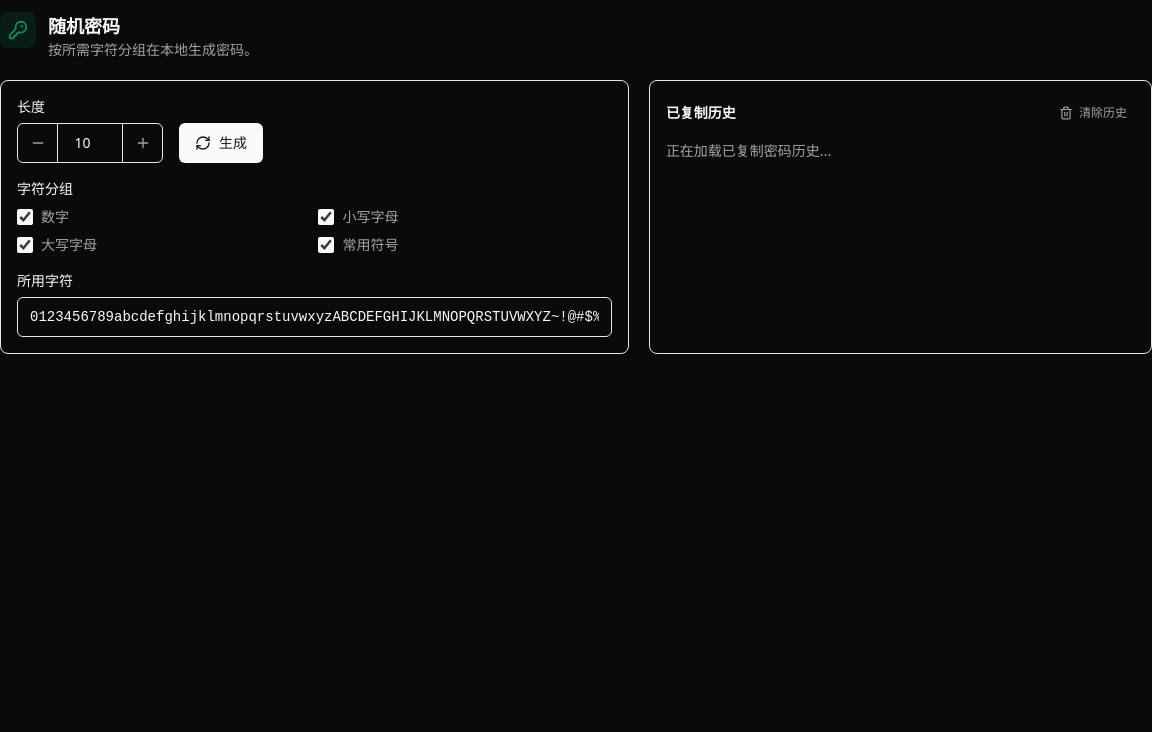
it: RandomPasswordTool › preserves loaded history when copying before a delayed initial load completes
Click the button "生成" at (221, 143), box [179, 123, 263, 163]
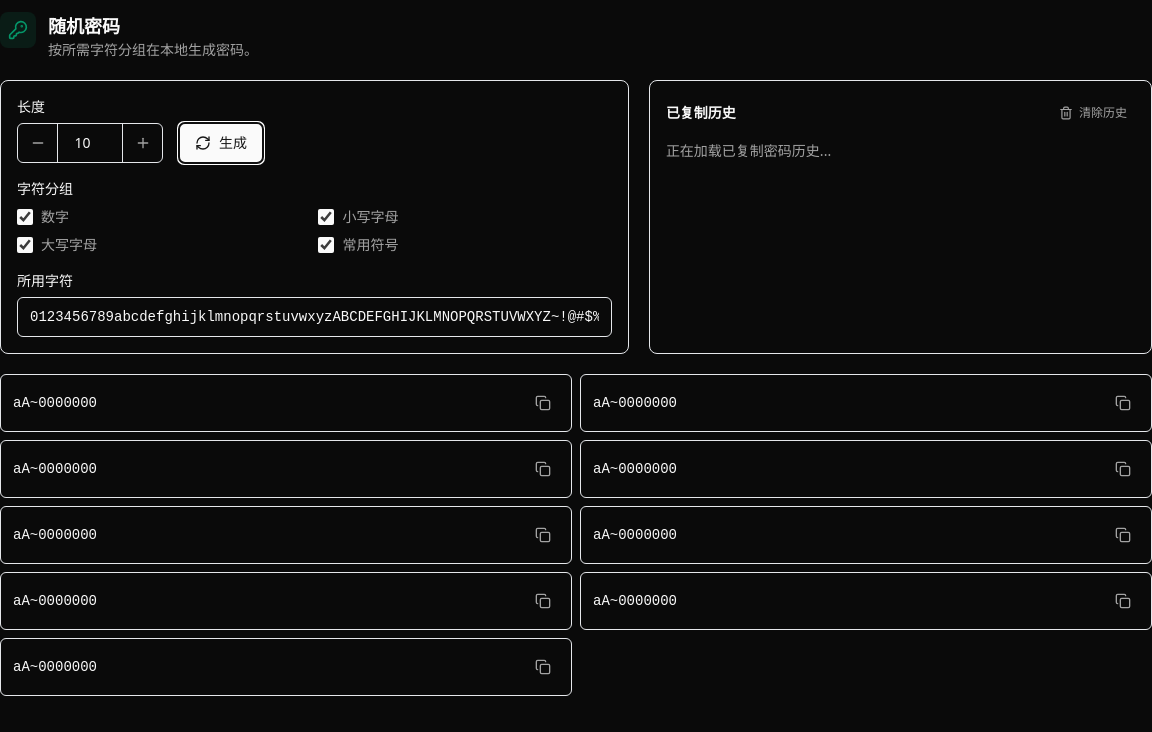
Click the 1st button named "复制密码" at (543, 403), box [527, 387, 559, 419]
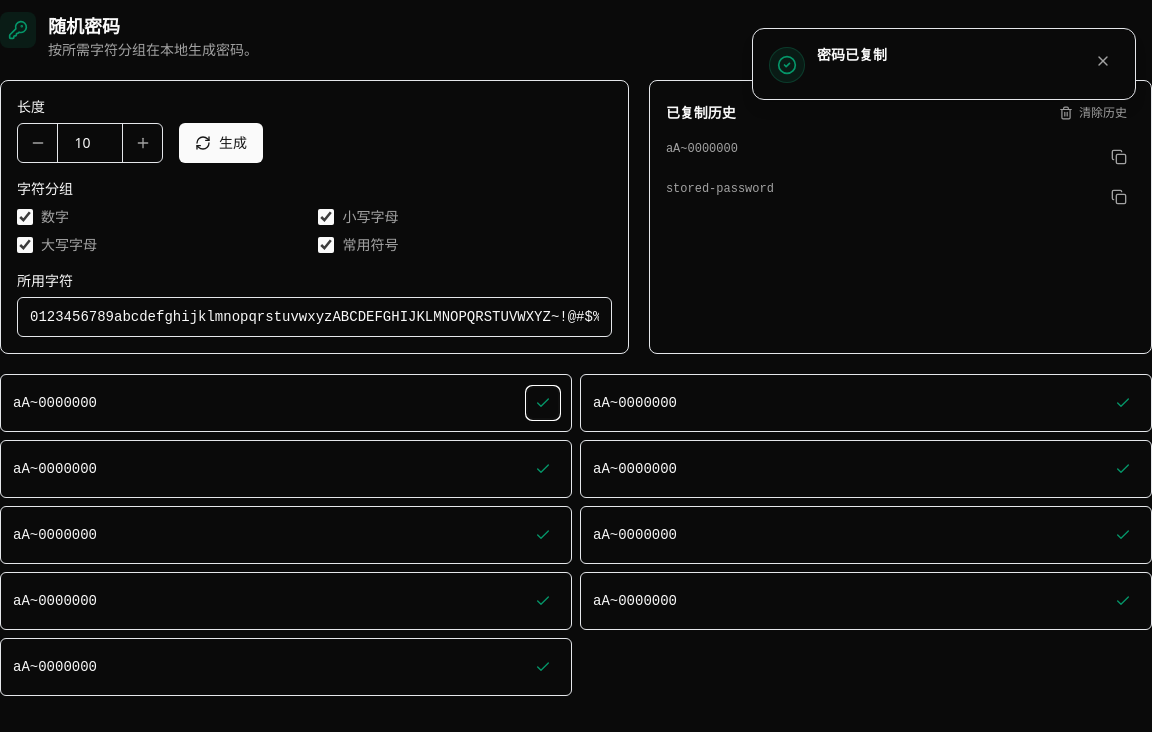
Expected: the text "stored-password" is shown, [666, 182, 774, 196]
